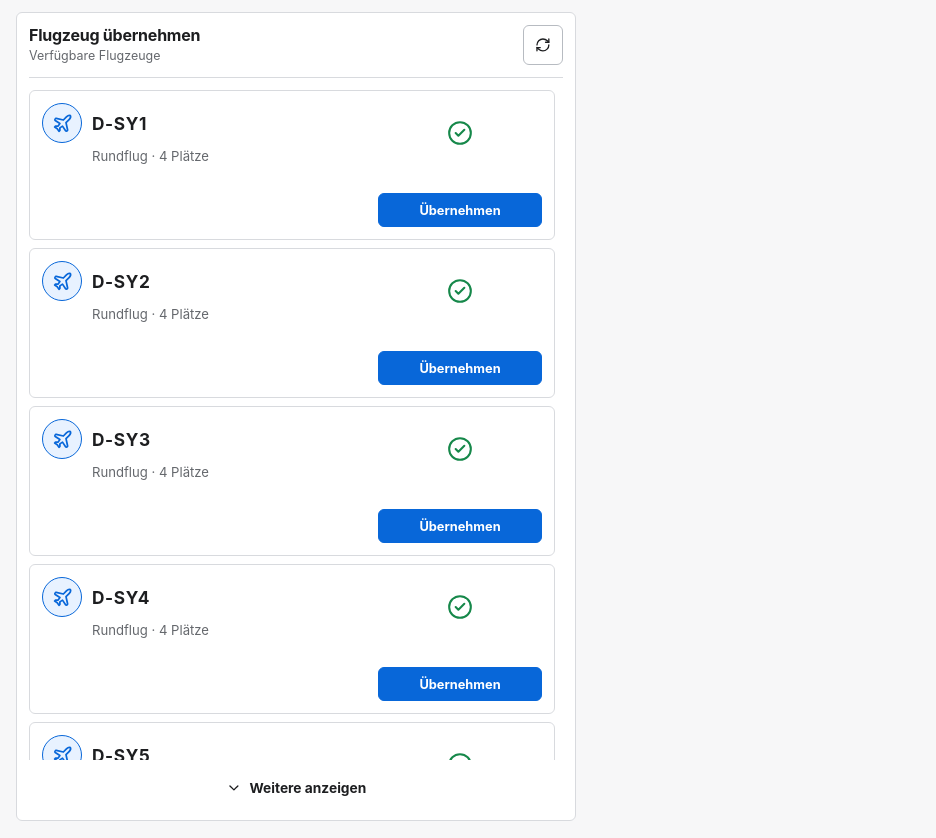
it: flight line assist workflow › loads additional aircraft and surfaces a refresh failure
The image size is (936, 838).
Click the button "Weitere anzeigen" at (296, 788), box [29,768,563,808]
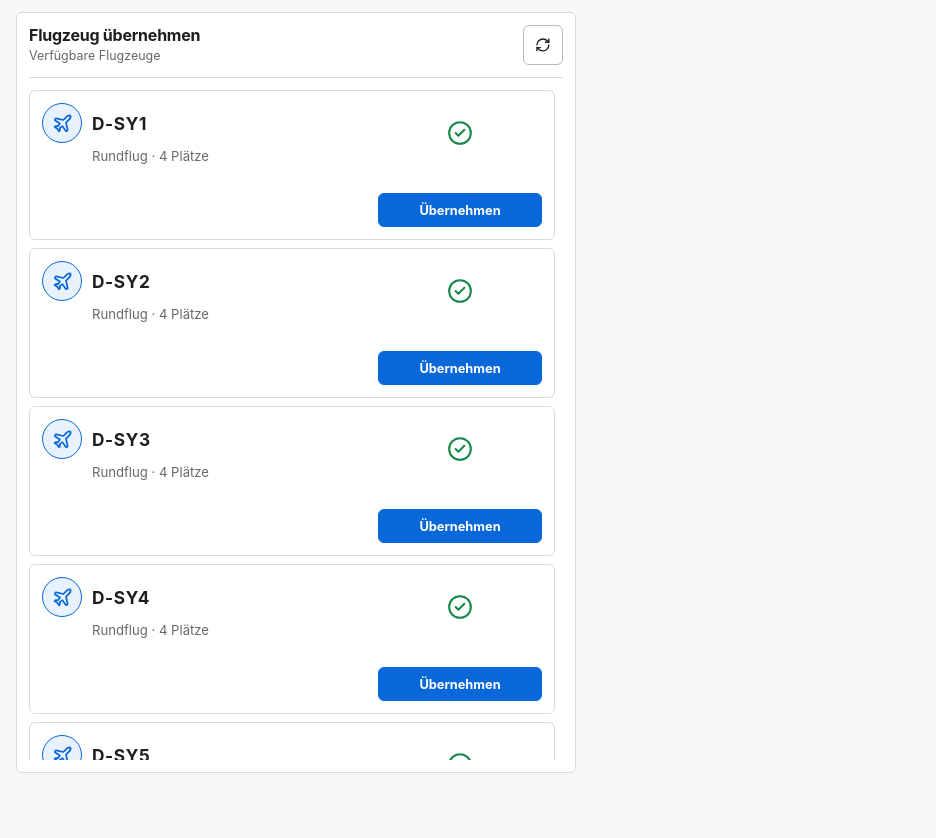
Click the button named "Flugzeugliste aktualisieren" at (543, 45), box [523,25,563,65]
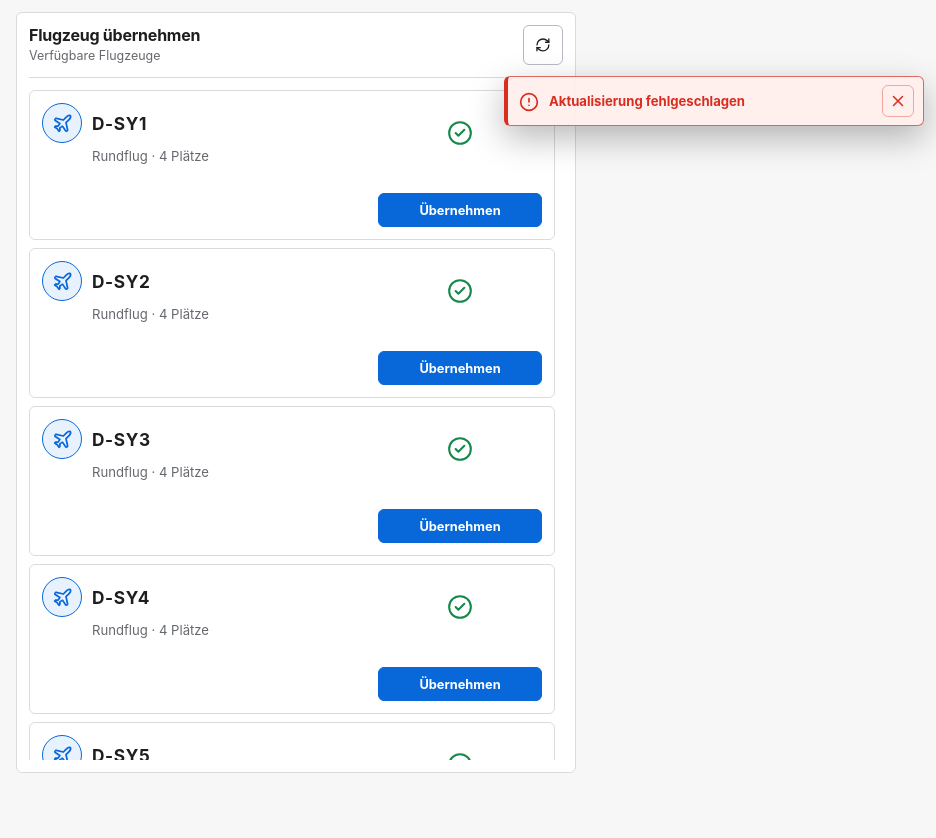
Check: the text "Aktualisierung fehlgeschlagen" is shown, box [549,93,745,109]
